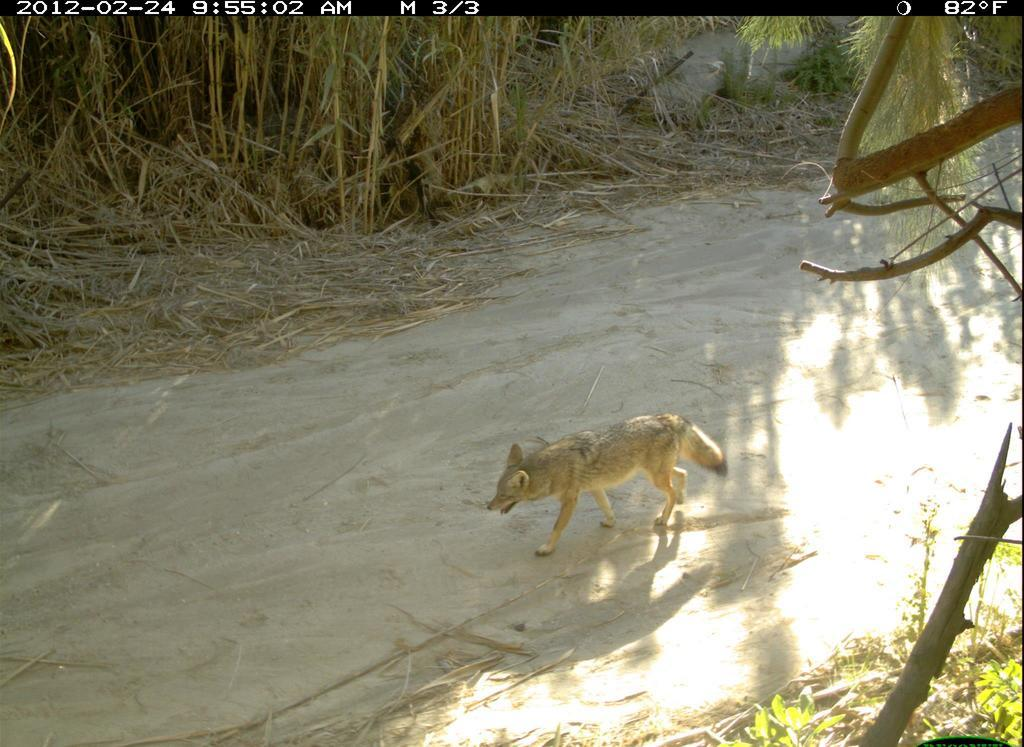coyote: (474, 392, 763, 539)
